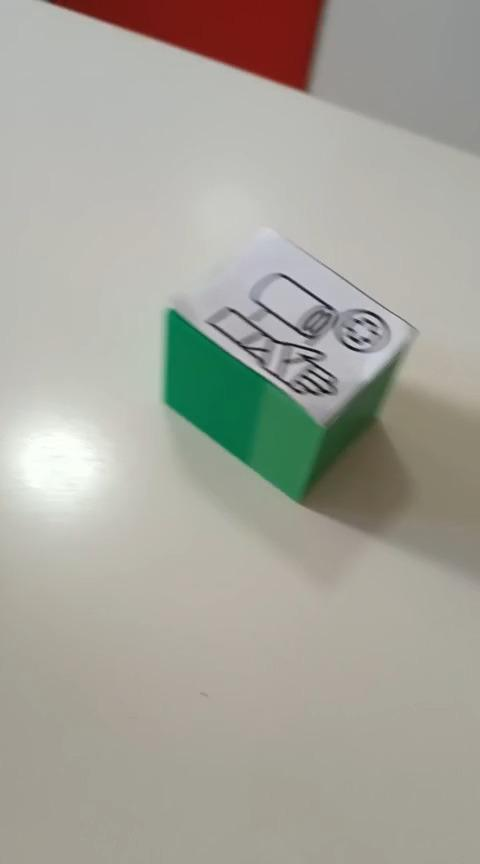Bandages: (161, 224, 420, 503)
